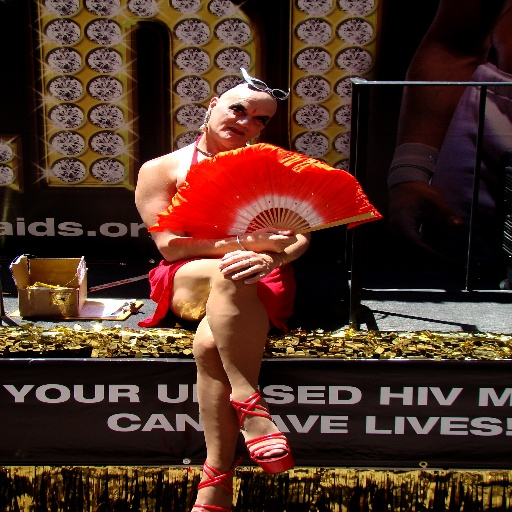hand: (382, 180, 464, 258), (209, 242, 294, 292), (245, 226, 299, 251)
